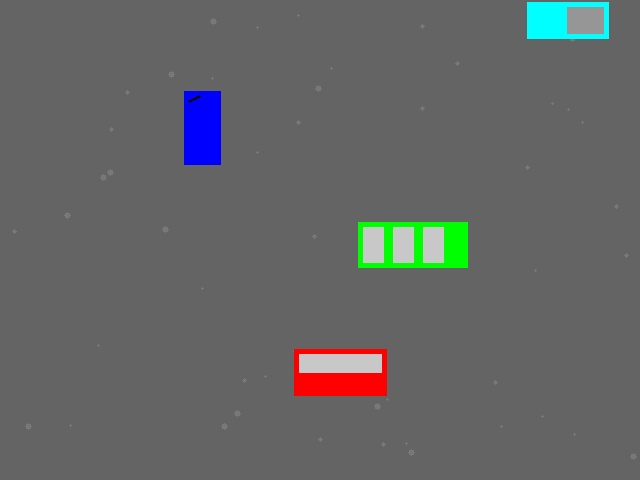bus: (358, 222, 467, 267)
car: (294, 349, 386, 395)
motorcycle: (184, 91, 220, 164)
truck: (527, 2, 608, 38)
